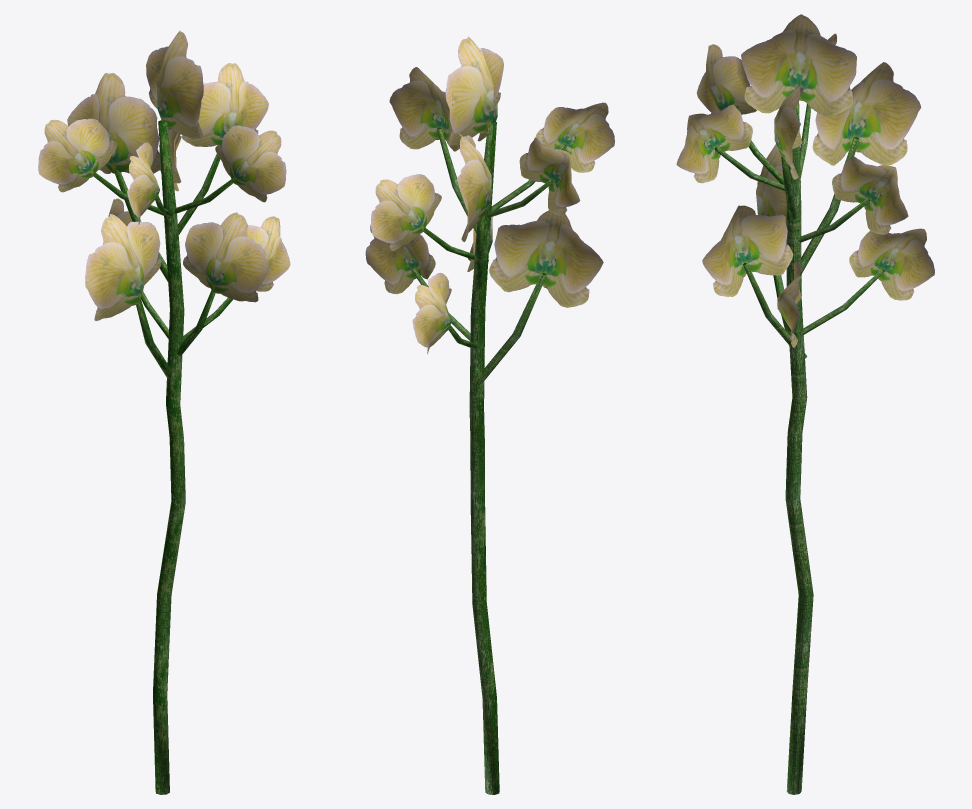
File: flower 7.dae
The picture shows the model from 3 angles, left to right: view 1: azimuth 30°, elevation 25°; view 2: azimuth 150°, elevation 25°; view 3: azimuth 270°, elevation 25°; orthographic projection. The views are drawn at different scales.
Parts seen in each view (by area): view 1: flower_7_Group4_Group2_Form9, flower_7_Group4_Group3_Form9, flower_7_Group4_Form9, flower_7_Group4_Shape2, flower_7_Group4_Group2_Form1, flower_7_Group4_Group3_Form1, flower_7_Group4_Form10; view 2: flower_7_Group4_Group3_Form9, flower_7_Group4_Form9, flower_7_Group4_Group2_Form9, flower_7_Group4_Shape2, flower_7_Group4_Group2_Form1, flower_7_Group4_Group3_Form1, flower_7_Group4_Form10; view 3: flower_7_Group4_Group3_Form9, flower_7_Group4_Group2_Form9, flower_7_Group4_Form9, flower_7_Group4_Shape2, flower_7_Group4_Group3_Form1, flower_7_Group4_Group2_Form1, flower_7_Group4_Form10.
Boxes of the visible parts, box(x1,y1,x2,y2) form: flower_7_Group4_Group2_Form9: box(67, 73, 269, 320); flower_7_Group4_Group3_Form9: box(38, 118, 286, 243); flower_7_Group4_Form9: box(146, 30, 290, 291); flower_7_Group4_Shape2: box(153, 120, 185, 794); flower_7_Group4_Group2_Form1: box(115, 169, 215, 378); flower_7_Group4_Group3_Form1: box(93, 172, 232, 338); flower_7_Group4_Form10: box(178, 153, 232, 342); flower_7_Group4_Group3_Form9: box(371, 102, 614, 354); flower_7_Group4_Form9: box(365, 36, 503, 294); flower_7_Group4_Group2_Form9: box(457, 133, 603, 307); flower_7_Group4_Shape2: box(469, 121, 499, 794); flower_7_Group4_Group2_Form1: box(470, 215, 546, 388); flower_7_Group4_Group3_Form1: box(424, 144, 566, 348); flower_7_Group4_Form10: box(411, 128, 477, 340); flower_7_Group4_Group3_Form9: box(676, 33, 934, 300); flower_7_Group4_Group2_Form9: box(702, 62, 921, 296); flower_7_Group4_Form9: box(741, 14, 856, 347); flower_7_Group4_Shape2: box(785, 92, 813, 794); flower_7_Group4_Group3_Form1: box(714, 103, 884, 335); flower_7_Group4_Group2_Form1: box(743, 137, 859, 376); flower_7_Group4_Form10: box(781, 156, 796, 335).
Bounding box in the file's own units: 16.95 × 46.31 × 15.44.
Materials: 2 (2 with a texture image).
